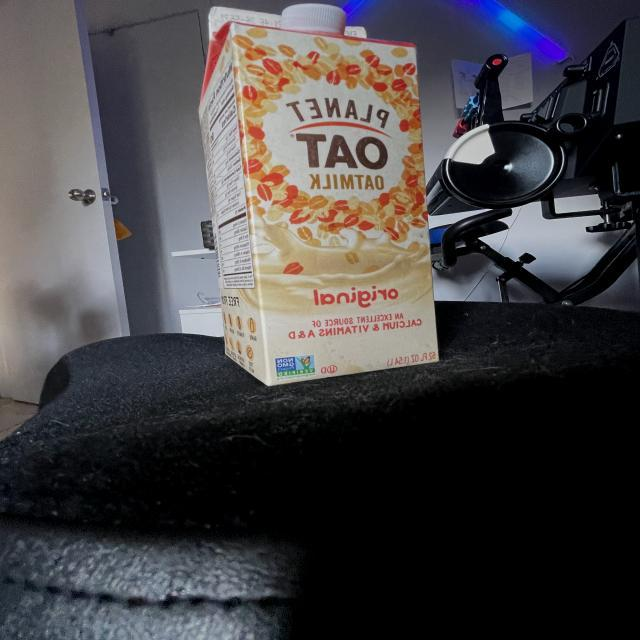Planet Oat Original: (190, 3, 445, 394)
